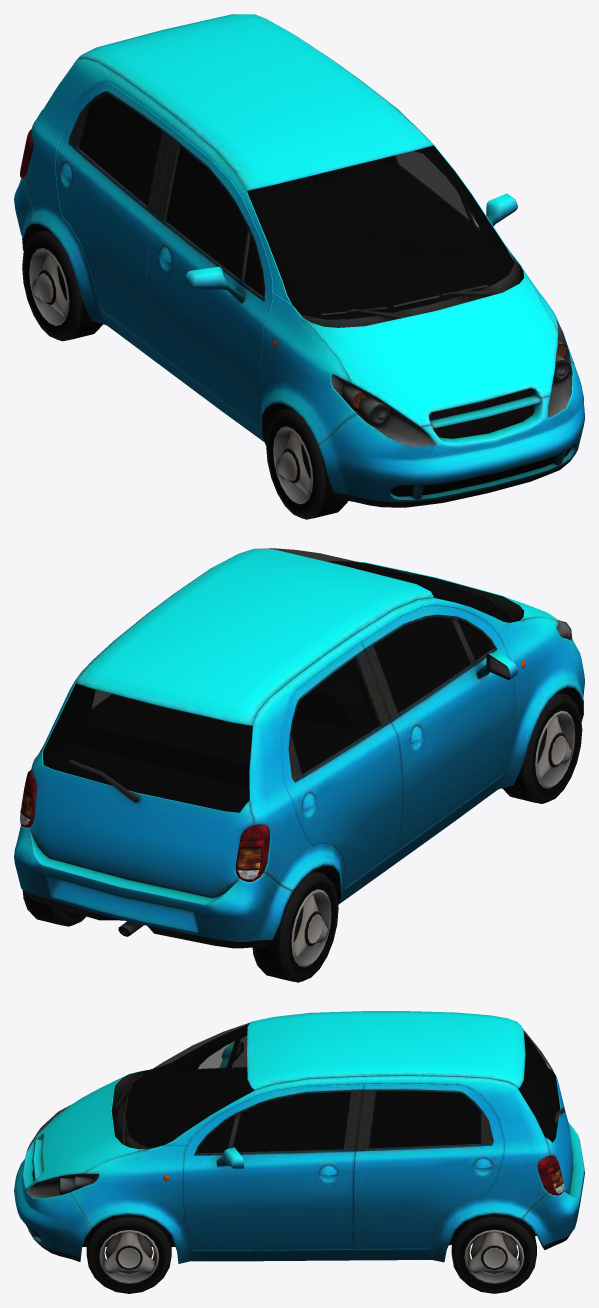
File: compact.glb
3 renders of one model, top to bottom at view 1: azimuth 30°, elevation 25°; view 2: azimuth 150°, elevation 25°; view 3: azimuth 270°, elevation 25°, orthographic. The views are drawn at different scales.
Visible parts, largest first — view 1: Compact Body, Wheel_C003, Wheel_C002; view 2: Compact Body, Wheel_C002, Wheel_C003, Wheel_C001; view 3: Compact Body, Wheel_C001, Wheel_C.
Part boxes in pixels (x1,y1,x2,y2): Compact Body: (14, 14, 584, 507); Wheel_C003: (266, 408, 347, 519); Wheel_C002: (22, 229, 102, 341); Compact Body: (14, 548, 584, 948); Wheel_C002: (252, 870, 338, 982); Wheel_C003: (502, 692, 582, 803); Wheel_C001: (22, 890, 86, 926); Compact Body: (14, 1011, 584, 1263); Wheel_C001: (451, 1214, 536, 1293); Wheel_C: (86, 1214, 171, 1293).
Bounding box in the file's own units: 1.61 × 1.32 × 3.26.
4 materials, 3 textured.
